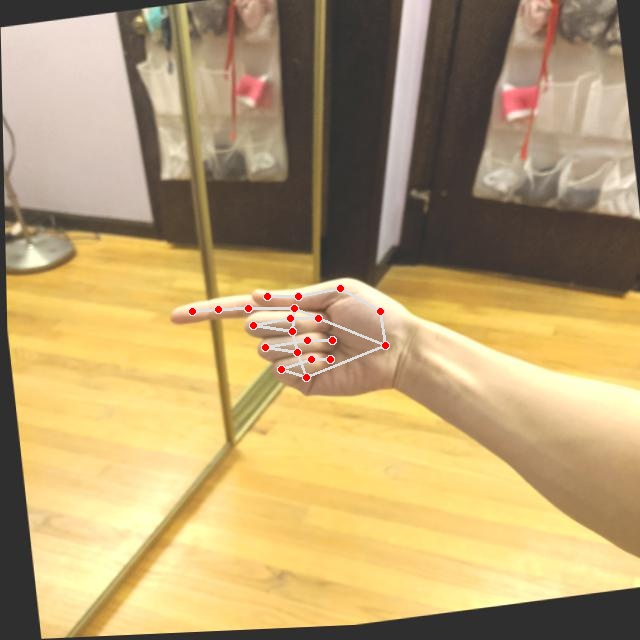G: (158, 268, 415, 425)
